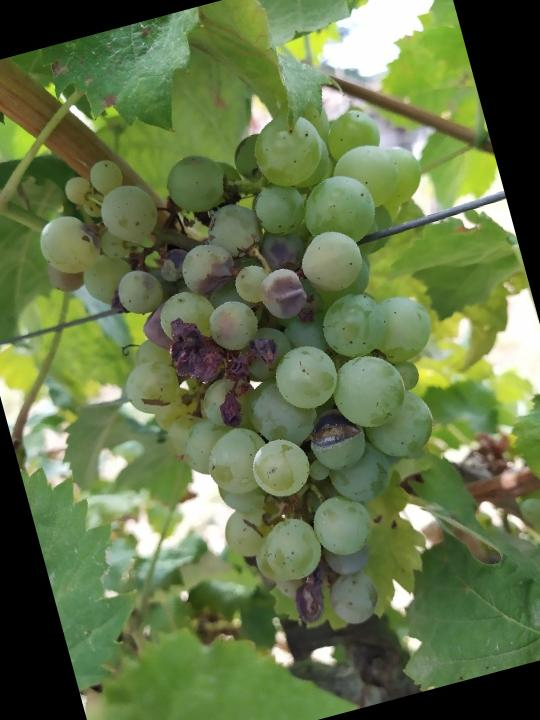grape: (18, 79, 532, 681)
